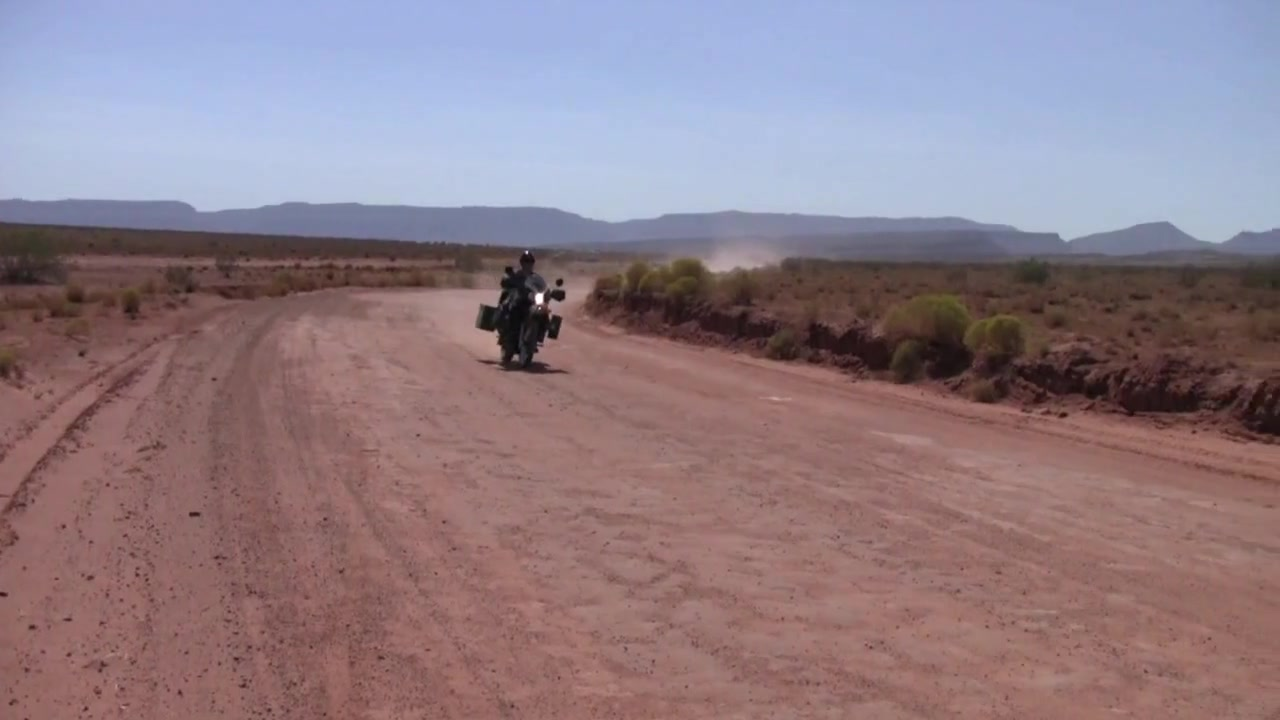motorbike: (482, 268, 571, 373)
